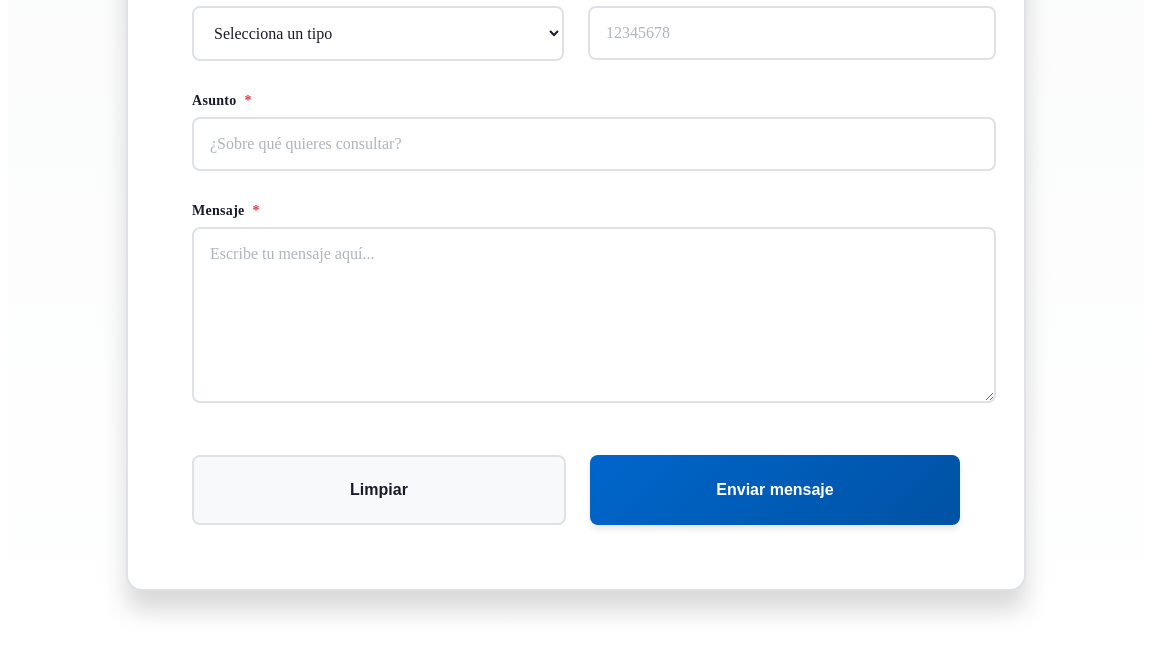
it: Contact Form › debe mostrar errores de validación cuando los campos están vacíos
(page scrolled)
Click the button "Enviar mensaje". click: (775, 490)
box: [590,455,960,525]
(page scrolled)
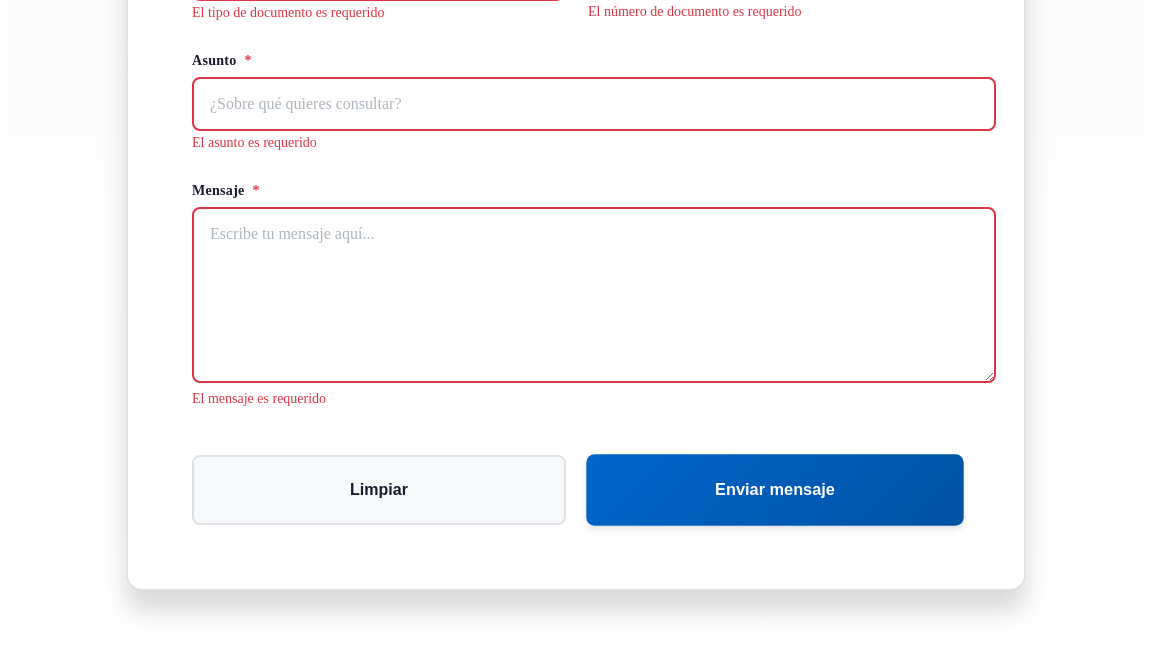
Expected: the text "El tipo de documento es requerido" is shown, [192,5,384,20]
Expected: the text "El número de documento es requerido" is shown, [588,4,801,19]
Expected: the text "El asunto es requerido" is shown, [192,135,317,150]
